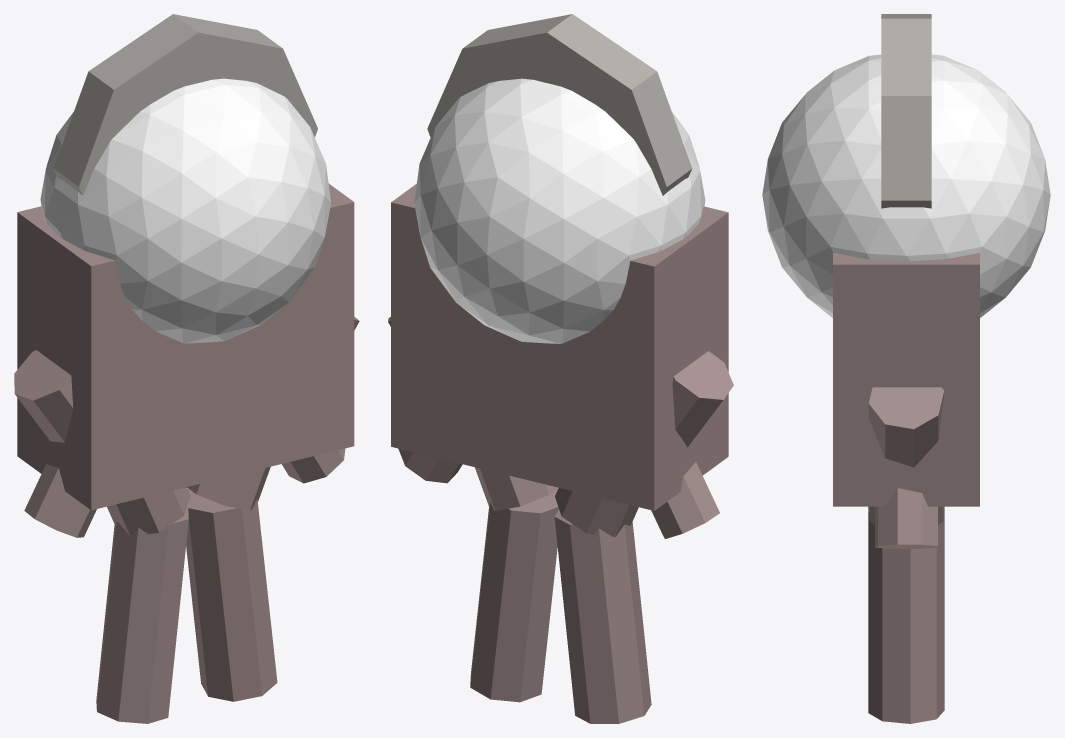
The model's file is 58b9fb68-5c52-4f70-b508-94f41dfdb2bd.glb.
The picture shows the model from 3 angles, left to right: view 1: azimuth 30°, elevation 25°; view 2: azimuth 150°, elevation 25°; view 3: azimuth 270°, elevation 25°; orthographic projection.
Visible parts, largest first — view 1: world; view 2: world; view 3: world.
Part boxes in pixels (x1=…): world: x1=14, y1=14, x2=359, y2=723; world: x1=388, y1=14, x2=733, y2=723; world: x1=762, y1=14, x2=1050, y2=723.
Bounding box in the file's own units: 0.8132 × 1.57 × 0.612.
